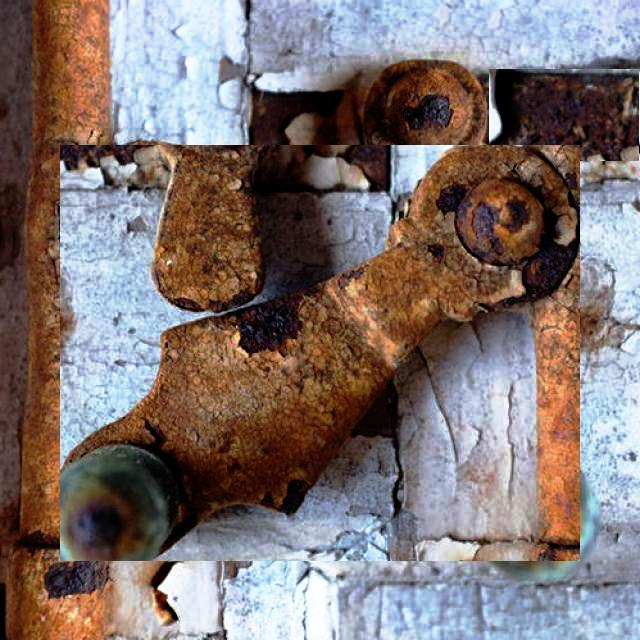Corrosion: (65, 146, 580, 552), (19, 0, 112, 544), (153, 146, 264, 311), (531, 260, 581, 561), (497, 70, 640, 159), (365, 60, 488, 143), (5, 544, 110, 640), (501, 210, 579, 307), (251, 88, 342, 144), (236, 296, 302, 354), (352, 384, 397, 436), (345, 144, 389, 190), (281, 480, 310, 517), (155, 588, 178, 625), (151, 562, 177, 589)
